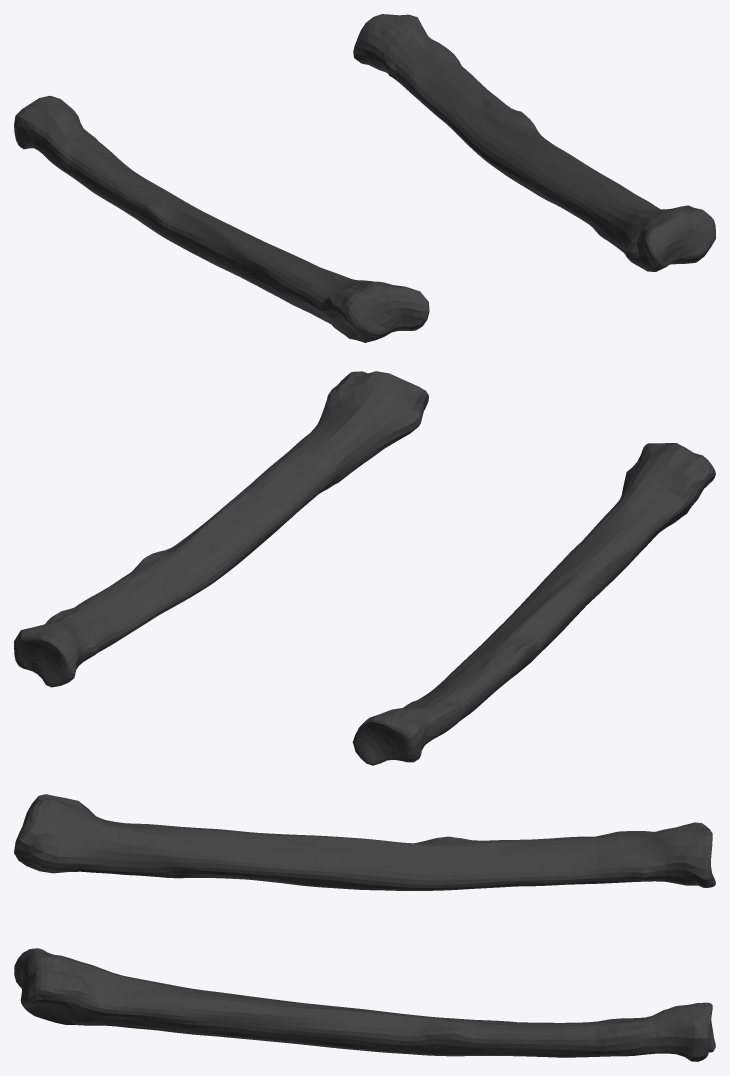
Rendered from B_Radius.glb.
3 views of the same model, one above another, from view 1: azimuth 30°, elevation 25°; view 2: azimuth 150°, elevation 25°; view 3: azimuth 270°, elevation 25° (orthographic). The views are drawn at different scales.
Parts seen in each view (by area): view 1: B_Radius; view 2: B_Radius; view 3: B_Radius.
Part boxes in pixels (box(x1,y1,x2,y2)): B_Radius: box(14, 14, 715, 342); B_Radius: box(14, 371, 715, 765); B_Radius: box(14, 794, 715, 1061).
Bounding box in the file's own units: 0.0083 × 0.00167 × 0.0118.
Materials: 1 (1 with a texture image).
